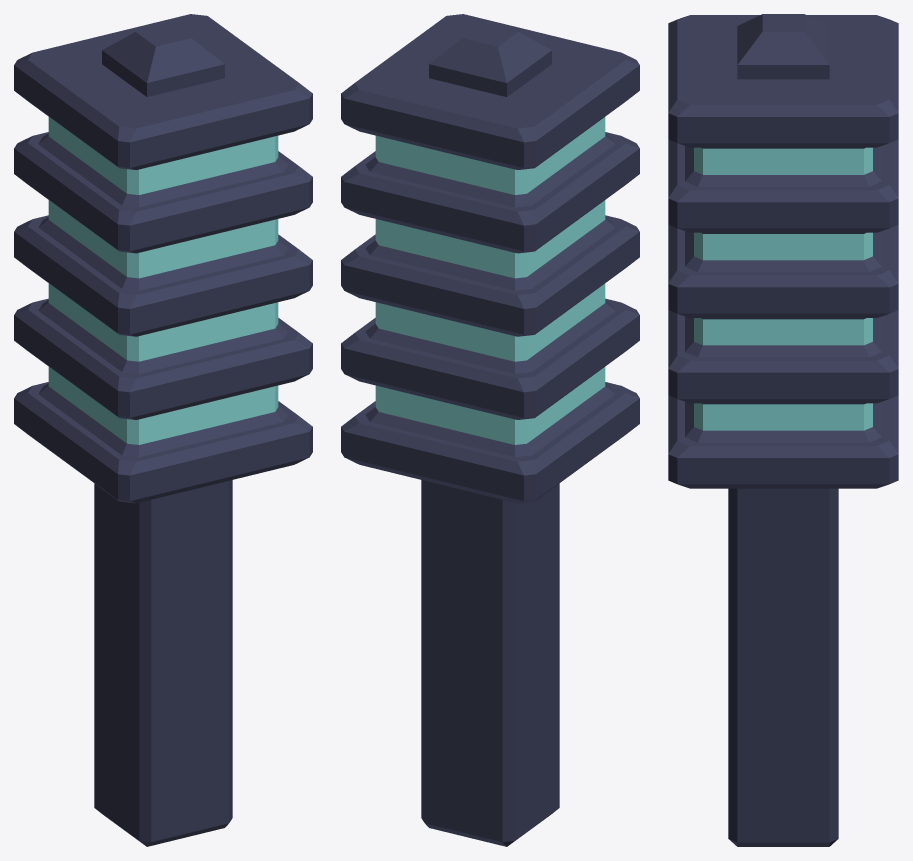
Rendered from tesla.fbx.
The picture shows the model from 3 angles, left to right: view 1: azimuth 30°, elevation 25°; view 2: azimuth 150°, elevation 25°; view 3: azimuth 270°, elevation 25°; orthographic projection. The views are drawn at different scales.
Parts seen in each view (by area): view 1: Cube; view 2: Cube; view 3: Cube.
Boxes of the visible parts, x1,y1,x2,y2 form: Cube: [14, 14, 312, 846]; Cube: [341, 14, 639, 846]; Cube: [668, 14, 898, 846].
Bounding box in the file's own units: 418 × 1612 × 418.
